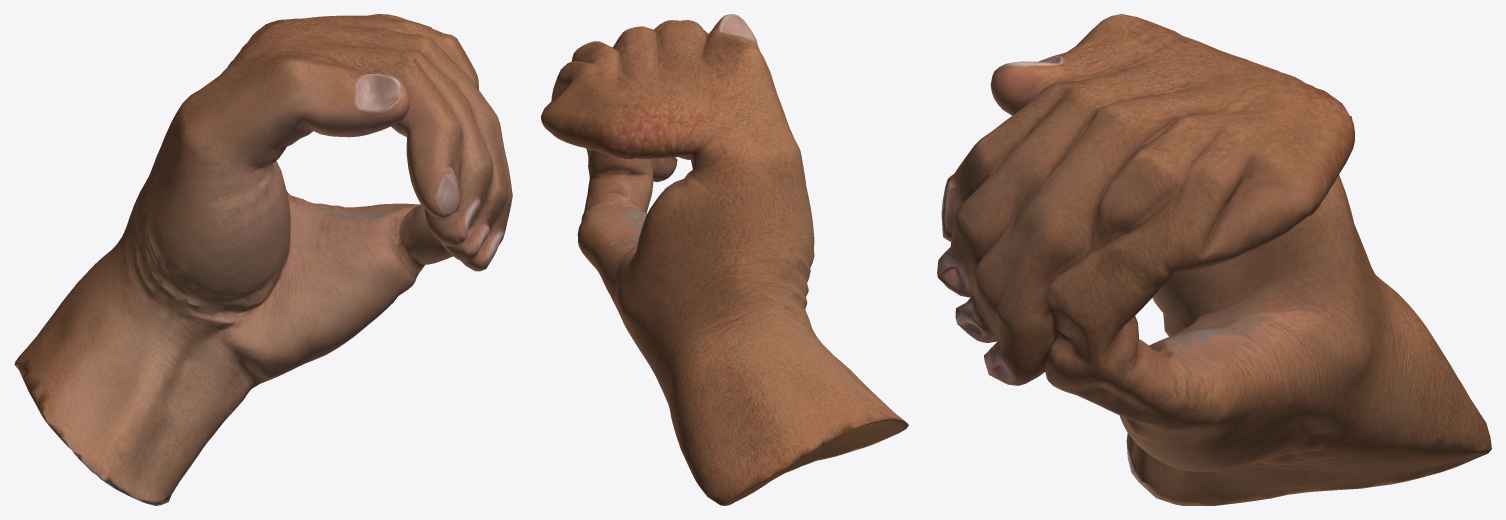
The model's file is hand_varco.glb.
The picture shows the model from 3 angles, left to right: view 1: azimuth 30°, elevation 25°; view 2: azimuth 150°, elevation 25°; view 3: azimuth 270°, elevation 25°; orthographic projection. The views are drawn at different scales.
Visible parts, largest first — view 1: texture_mapping; view 2: texture_mapping; view 3: texture_mapping.
Part boxes in pixels (bbox=[...]): texture_mapping: bbox=[14, 14, 512, 505]; texture_mapping: bbox=[541, 14, 908, 505]; texture_mapping: bbox=[937, 14, 1491, 505].
Size of the model in its own units: 1 by 1 by 0.9102.
1 material, 1 textured.
